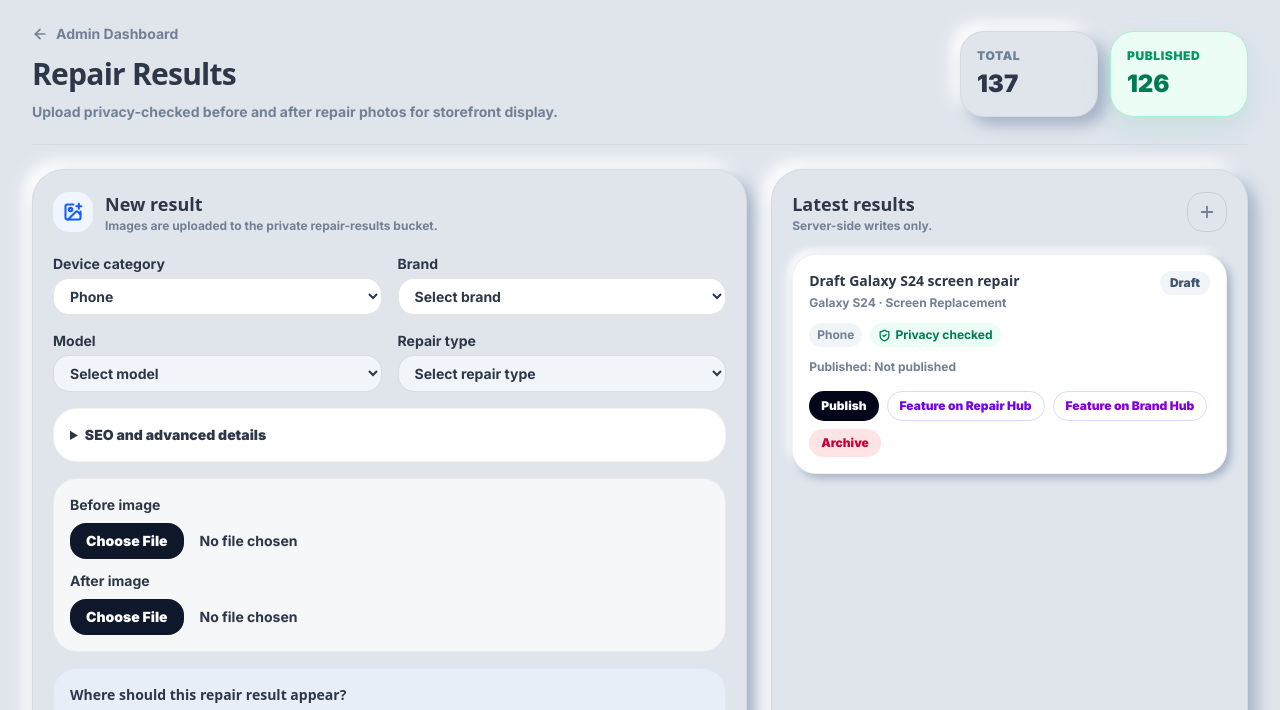
Scenario: RepairResultsView taxonomy workflow › uses authoritative stats above the latest-results cap and refreshes them after publishing
The width and height of the screenshot is (1280, 710).
Expected: the text "137" is shown, [977, 69, 1018, 98]
Expected: the text "126" is shown, [1127, 69, 1170, 98]
Click the button "Publish": [844, 406] box [809, 391, 879, 421]
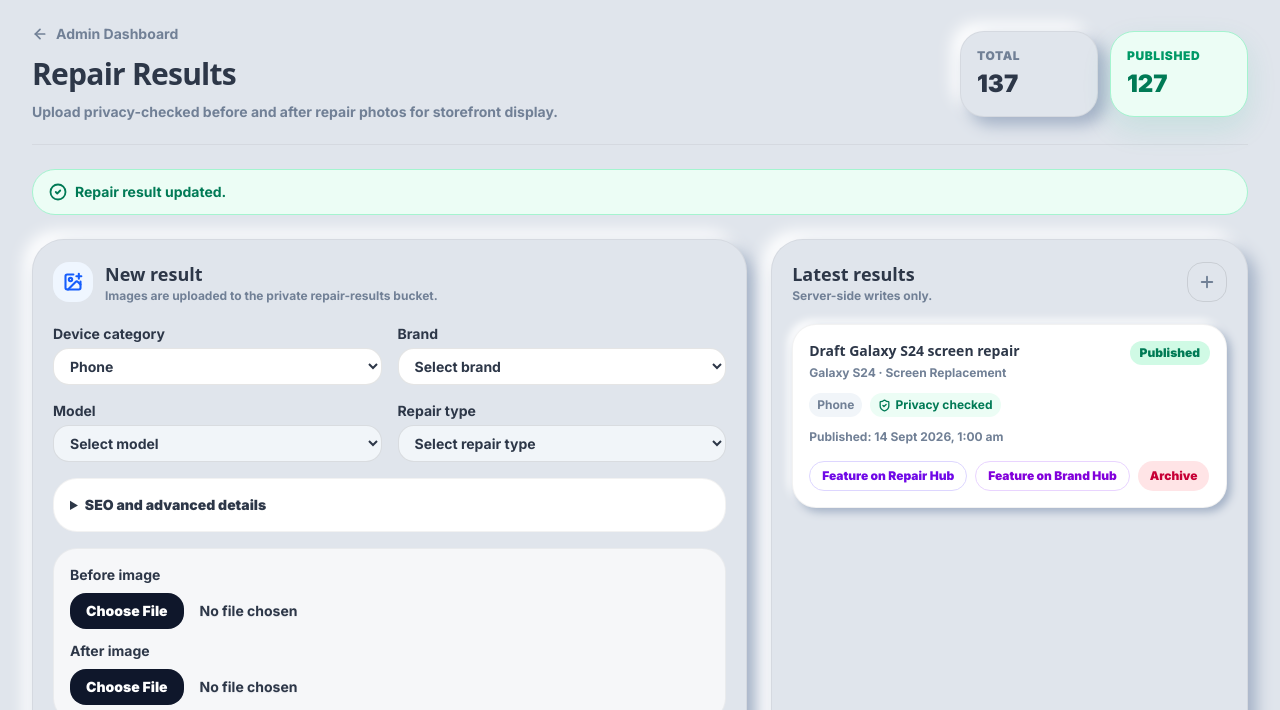
Result: the text "127" is shown at [1127, 69, 1168, 98]
